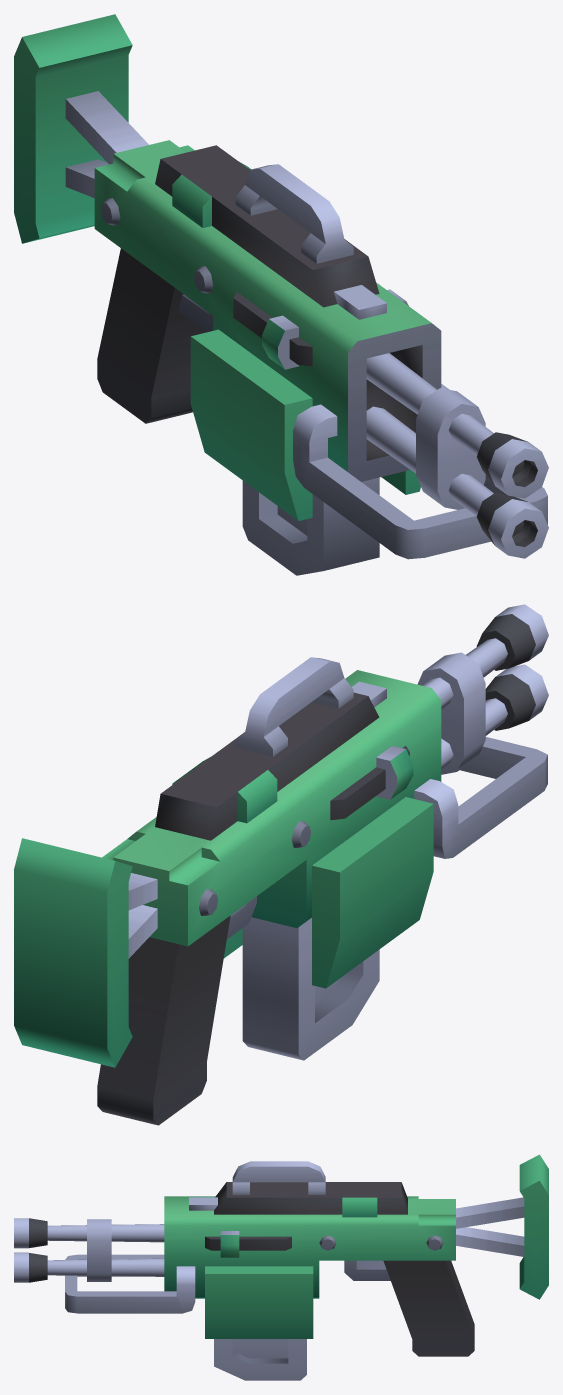
3 views of the same model, one above another, from view 1: azimuth 30°, elevation 25°; view 2: azimuth 150°, elevation 25°; view 3: azimuth 270°, elevation 25° (orthographic). The views are drawn at different scales.
Parts seen in each view (by area): view 1: blaster-p; view 2: blaster-p; view 3: blaster-p.
Part boxes in pixels (box(x1,y1,x2,y2)): blaster-p: box(14, 14, 548, 575); blaster-p: box(14, 604, 548, 1125); blaster-p: box(14, 1154, 548, 1380).
Size of the model in its own units: 0.1522 by 0.3528 by 0.82.
1 material, 1 textured.
